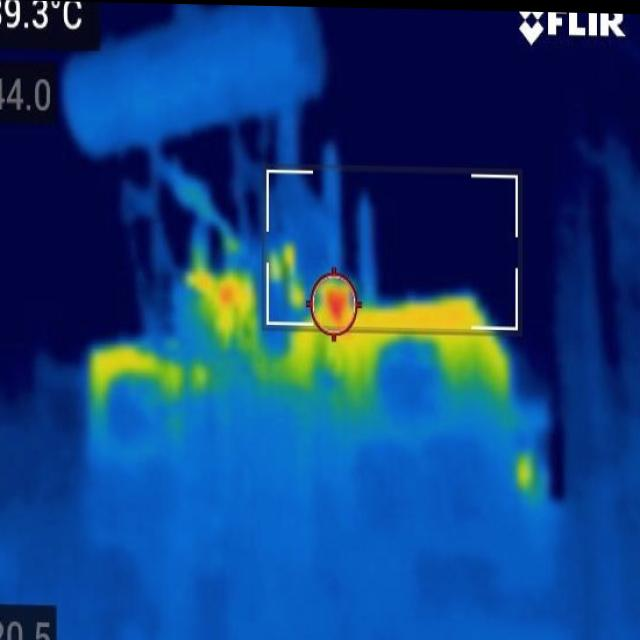Potentially Faulty: (317, 268, 362, 331)
